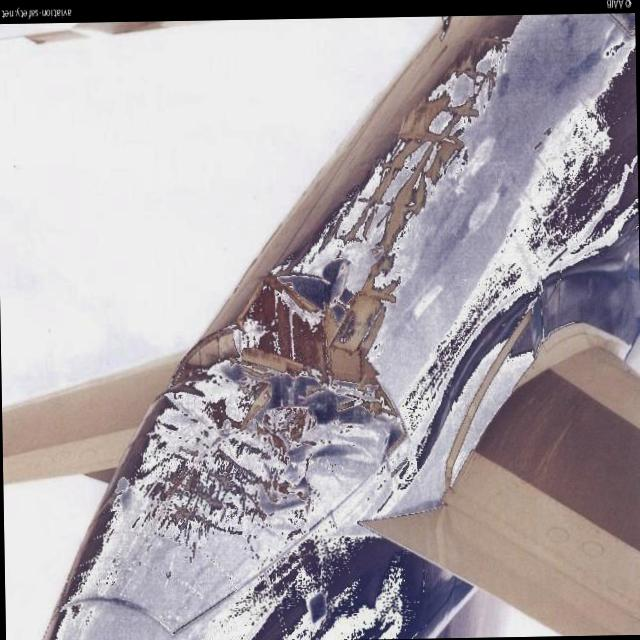crack: (230, 258, 411, 506)
